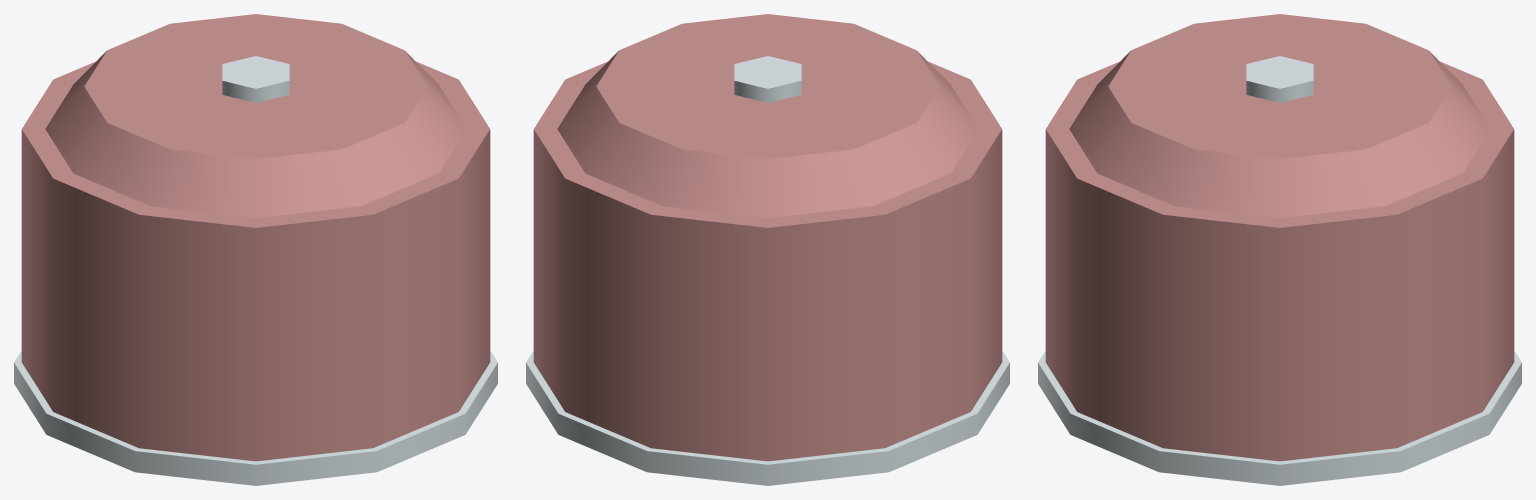
The model's file is poufLeather.glb.
The picture shows the model from 3 angles, left to right: view 1: azimuth 30°, elevation 25°; view 2: azimuth 150°, elevation 25°; view 3: azimuth 270°, elevation 25°; orthographic projection.
Visible parts, largest first — view 1: poufLeather; view 2: poufLeather; view 3: poufLeather.
Part boxes in pixels (<box>): poufLeather: <box>14,14,497,485</box>; poufLeather: <box>526,14,1009,485</box>; poufLeather: <box>1038,14,1521,485</box>.
Bounding box in the file's own units: 0.31 × 0.22 × 0.31.
